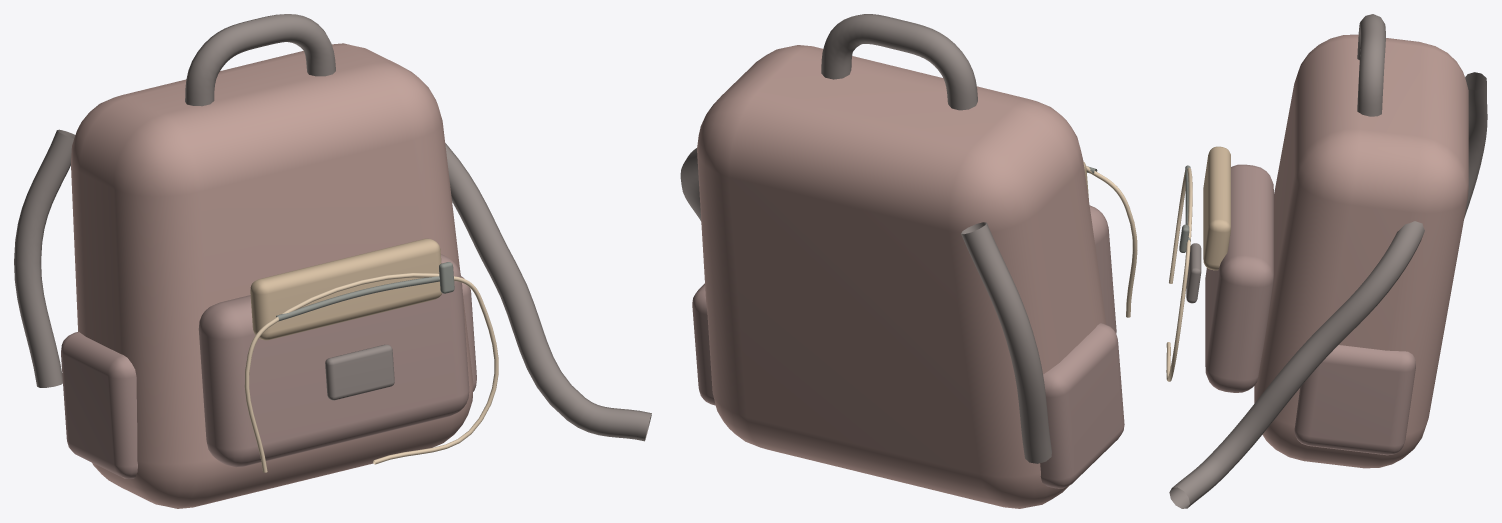
File: student_backpack.glb
3 views of the same model, side by side, from view 1: azimuth 30°, elevation 25°; view 2: azimuth 150°, elevation 25°; view 3: azimuth 270°, elevation 25° (orthographic). The views are drawn at different scales.
Visible parts, largest first — view 1: PROP_Backpack_Student; view 2: PROP_Backpack_Student; view 3: PROP_Backpack_Student.
Part boxes in pixels (x1=…): PROP_Backpack_Student: x1=14, y1=14, x2=651, y2=508; PROP_Backpack_Student: x1=680, y1=14, x2=1137, y2=508; PROP_Backpack_Student: x1=1166, y1=14, x2=1487, y2=508.
Size of the model in its own units: 0.5284 by 0.4613 by 0.3474.
